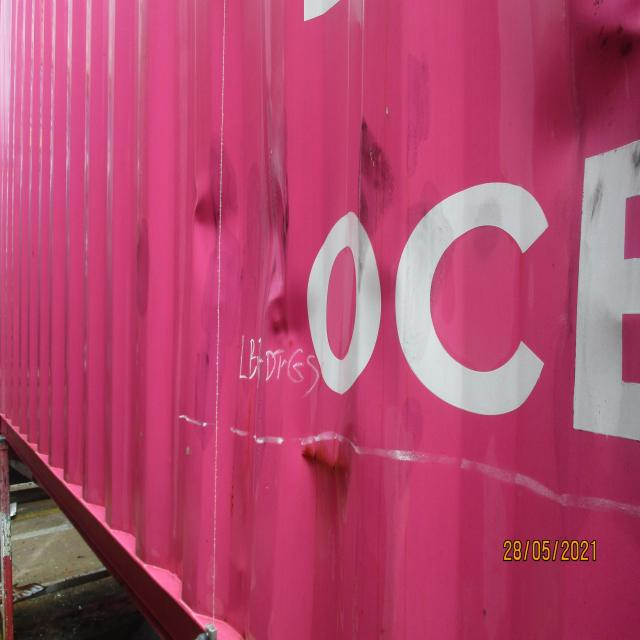dent: (188, 139, 325, 414), (514, 1, 640, 238), (298, 424, 354, 492)
